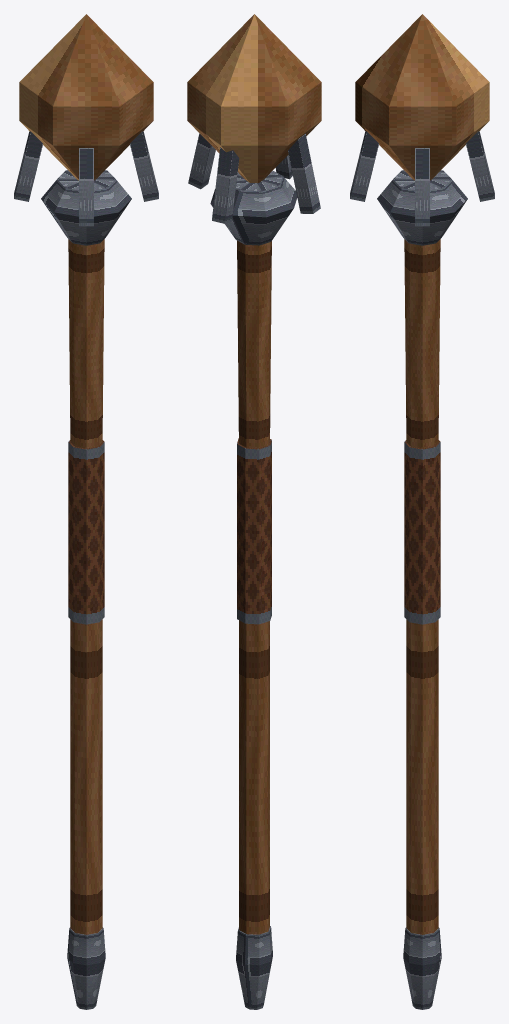
Rendered from cajado_de_madeira.glb.
The picture shows the model from 3 angles, left to right: view 1: azimuth 90°, elevation 25°; view 2: azimuth 150°, elevation 25°; view 3: azimuth 270°, elevation 25°; orthographic projection.
Parts seen in each view (by area): view 1: cajado_de_madeira; view 2: cajado_de_madeira; view 3: cajado_de_madeira.
Boxes of the visible parts, <box> form: cajado_de_madeira: <box>14,14,158,1009</box>; cajado_de_madeira: <box>187,14,321,1009</box>; cajado_de_madeira: <box>350,14,494,1009</box>.
Size of the model in its own units: 0.2697 by 2.04 by 0.2697.
1 material, 1 textured.
